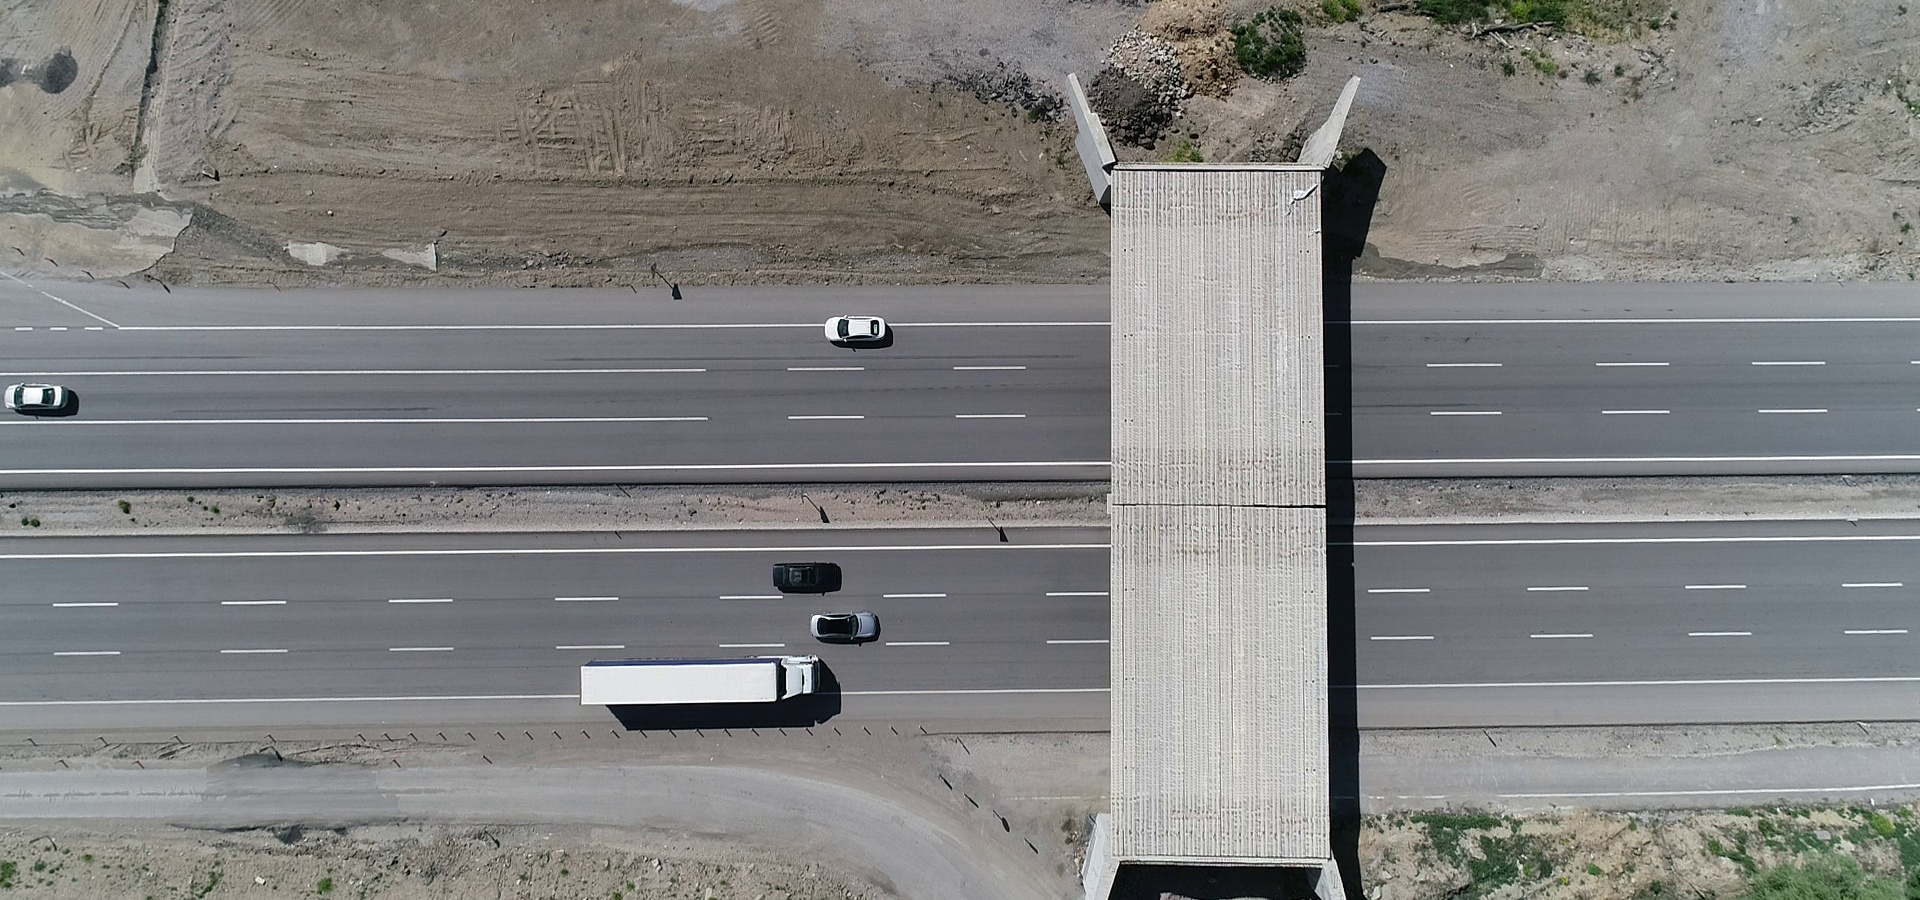araba: (808, 606, 900, 645), (771, 551, 849, 595), (1, 378, 82, 418), (825, 312, 891, 347)
kamyon: (576, 647, 838, 720)
